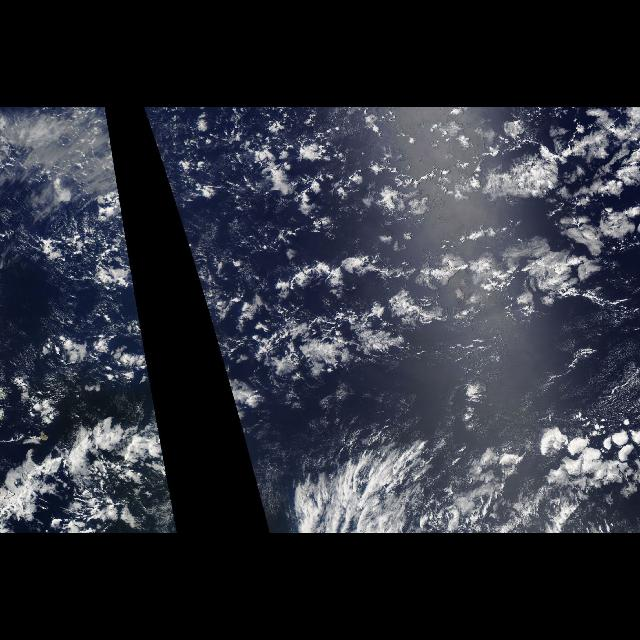Flower: (168, 115, 618, 378), (522, 410, 640, 504)
